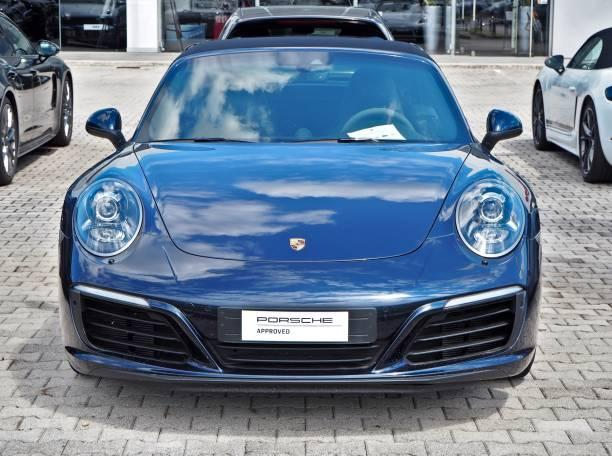porsche: (282, 232, 316, 255)
